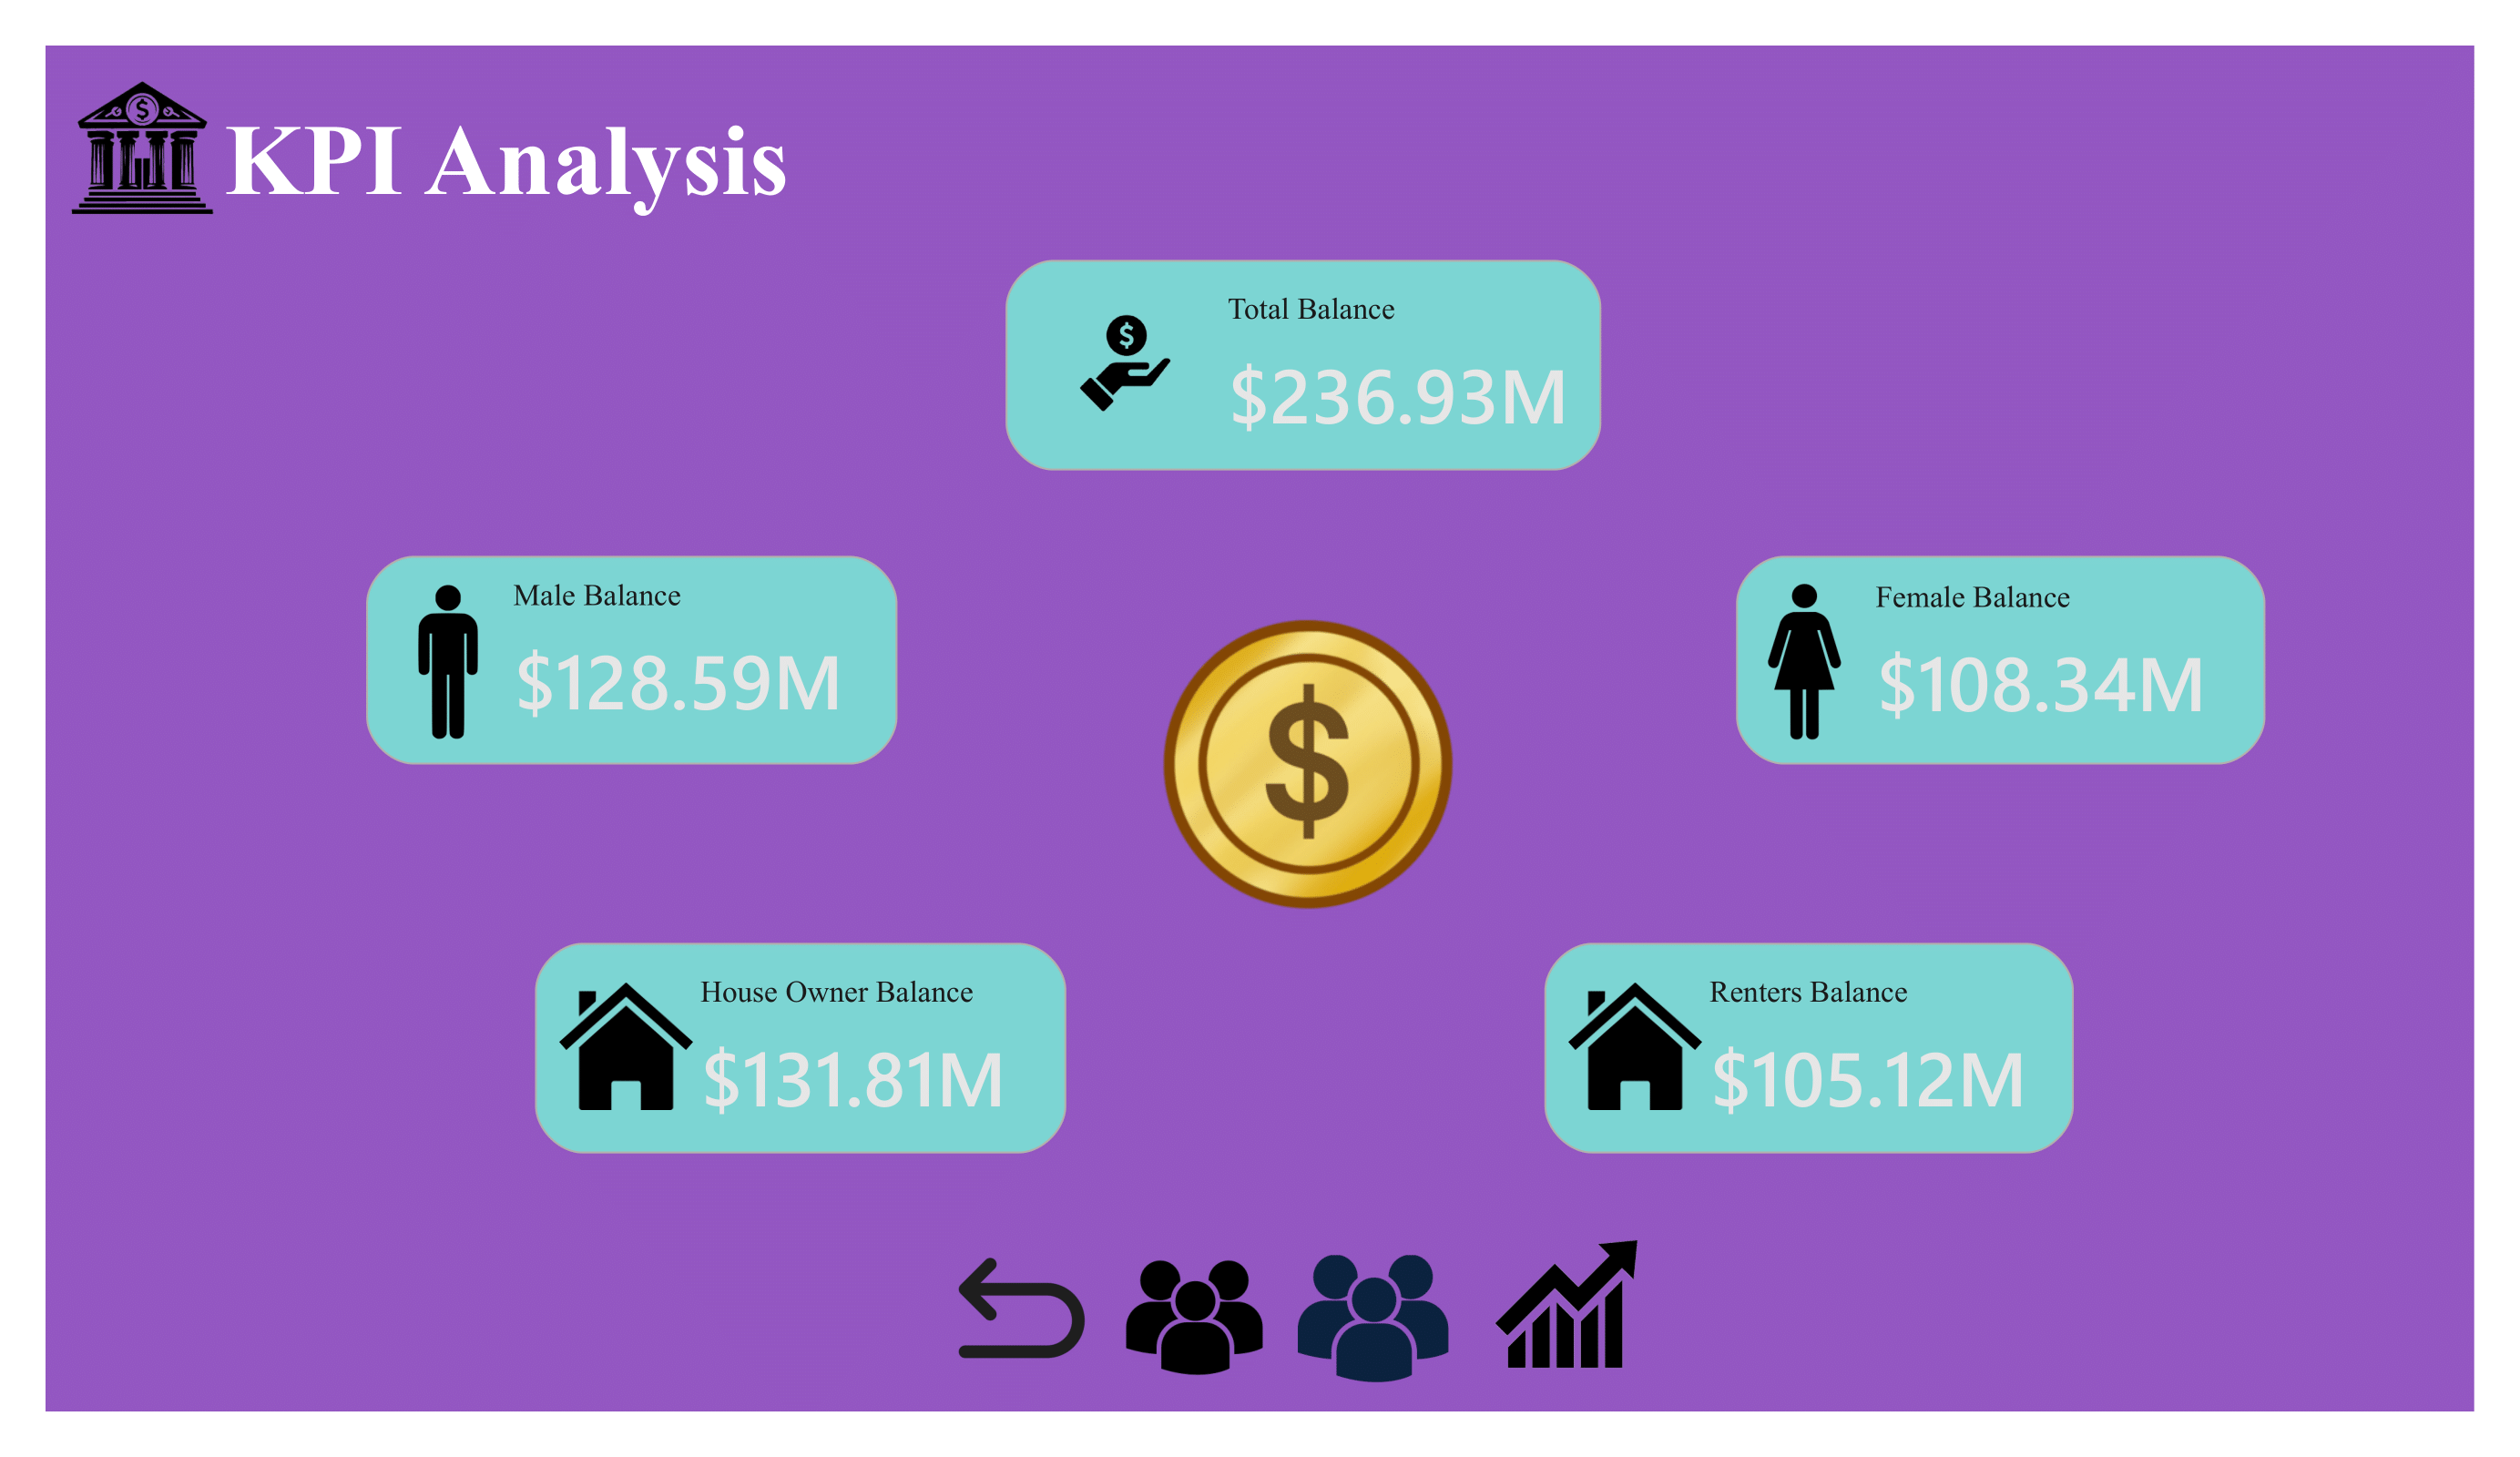

This screenshot's page, from the dashboard's own definition file:
{"tool":"powerbi","page":{"name":"KPI","canvas":[1280,720],"ordinal":2},"visuals":[{"type":"cardVisual","fields":{"Data":["Measure.Total Balance"]},"box":[501.1,108,324,121],"z":0},{"type":"cardVisual","fields":{"Data":["Measure.Male Balance"]},"box":[164.2,263.5,289.4,121],"z":1000},{"type":"cardVisual","fields":{"Data":["Measure.Female Balance"]},"box":[885.6,263.5,289.4,121],"z":2000},{"type":"cardVisual","fields":{"Data":["Measure.House Owner Balance"]},"box":[253.4,468,289.4,121],"z":3000},{"type":"cardVisual","fields":{"Data":["Measure.Renters Balance"]},"box":[784.8,468,289.4,121],"z":4000},{"type":"image","box":[465.1,620.6,99.4,89.3],"z":5000},{"type":"image","box":[544.3,273.5,242.4,221.1],"z":6000},{"type":"image","box":[542.9,620.6,123.8,99.4],"z":7000},{"type":"image","box":[633.6,626.4,132.5,89.3],"z":8000},{"type":"image","box":[740.2,617.8,125.3,93.6],"z":9000},{"type":"textbox","title":"KPI Analysis","box":[89.3,28.8,388.8,118.1],"z":10000},{"type":"image","box":[0,0,102.2,108],"z":11000}]}

Visuals, with their boxes in screenshot pixels (x1, y1, x2, y2):
cardVisual - Measure.Total Balance: box(996, 250, 1611, 480)
cardVisual - Measure.Male Balance: box(357, 545, 906, 775)
cardVisual - Measure.Female Balance: box(1726, 545, 2275, 775)
cardVisual - Measure.House Owner Balance: box(526, 933, 1076, 1163)
cardVisual - Measure.Renters Balance: box(1535, 933, 2084, 1163)
image: box(928, 1223, 1117, 1392)
image: box(1078, 565, 1538, 983)
image: box(1076, 1223, 1311, 1411)
image: box(1248, 1234, 1499, 1403)
image: box(1450, 1218, 1688, 1395)
"KPI Analysis" textbox: box(215, 100, 953, 324)
image: box(46, 46, 240, 250)
